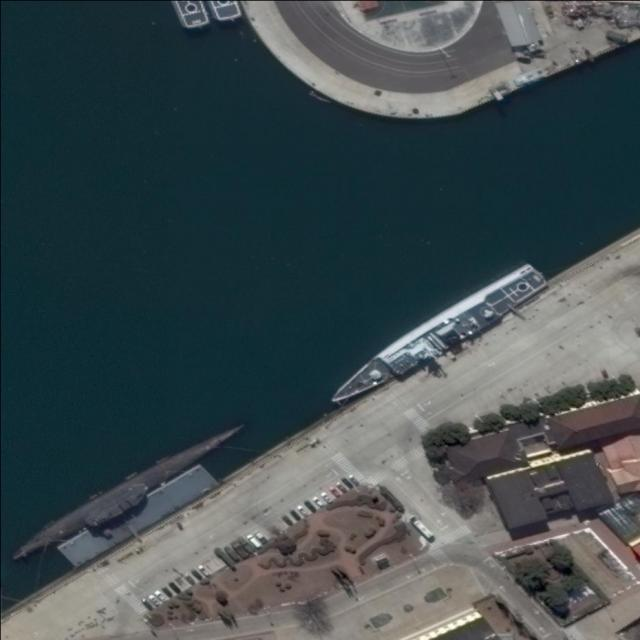Auxiliary Ships: (321, 257, 549, 414)
Submarine: (6, 416, 255, 568)
